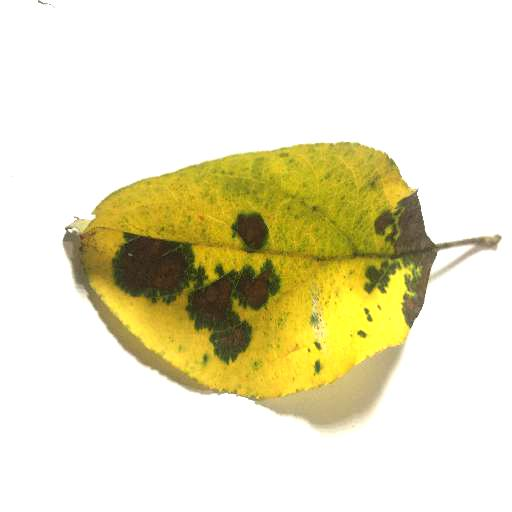Brown_Spot: (111, 234, 185, 286), (235, 216, 285, 252), (203, 322, 251, 356), (223, 272, 272, 305), (382, 216, 426, 249), (408, 259, 429, 317), (201, 290, 230, 318)
